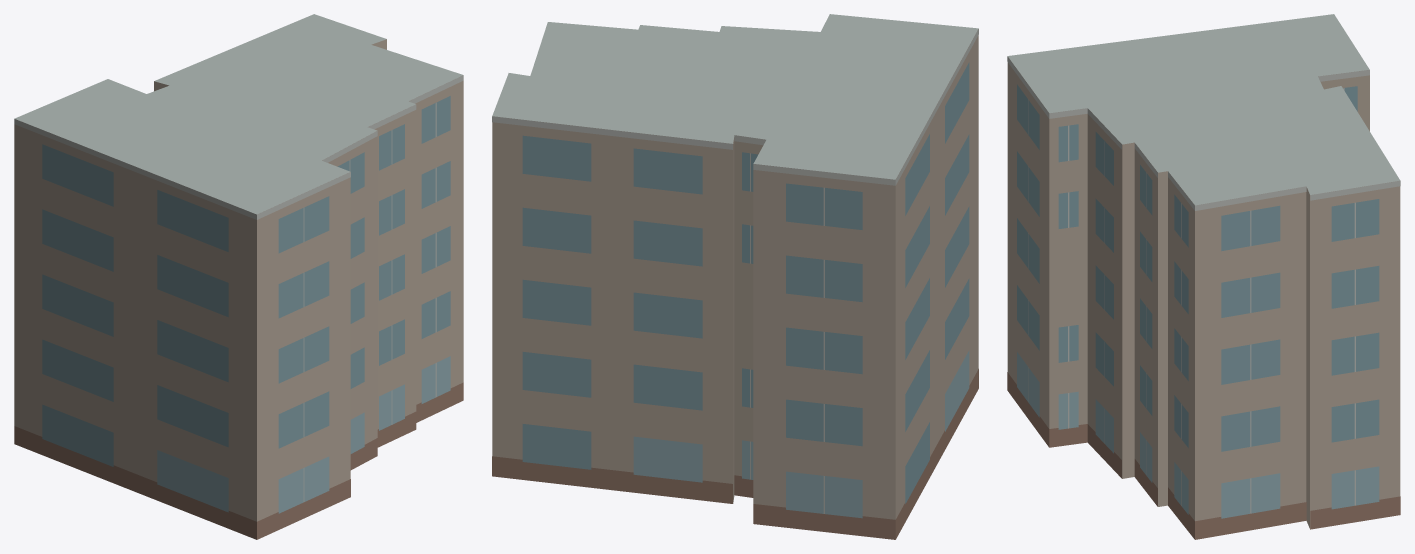
The model's file is survey-upis-32525724.glb.
3 renders of one model, left to right at view 1: azimuth 30°, elevation 25°; view 2: azimuth 150°, elevation 25°; view 3: azimuth 270°, elevation 25°, orthographic. The views are drawn at different scales.
Visible parts, largest first — view 1: survey-upis-32525724.tmp; view 2: survey-upis-32525724.tmp; view 3: survey-upis-32525724.tmp.
Part boxes in pixels (x1,y1,x2,y2): survey-upis-32525724.tmp: (14, 14, 463, 539); survey-upis-32525724.tmp: (492, 14, 978, 539); survey-upis-32525724.tmp: (1007, 14, 1400, 539).
Bounding box in the file's own units: 17.88 × 14.55 × 15.51.
